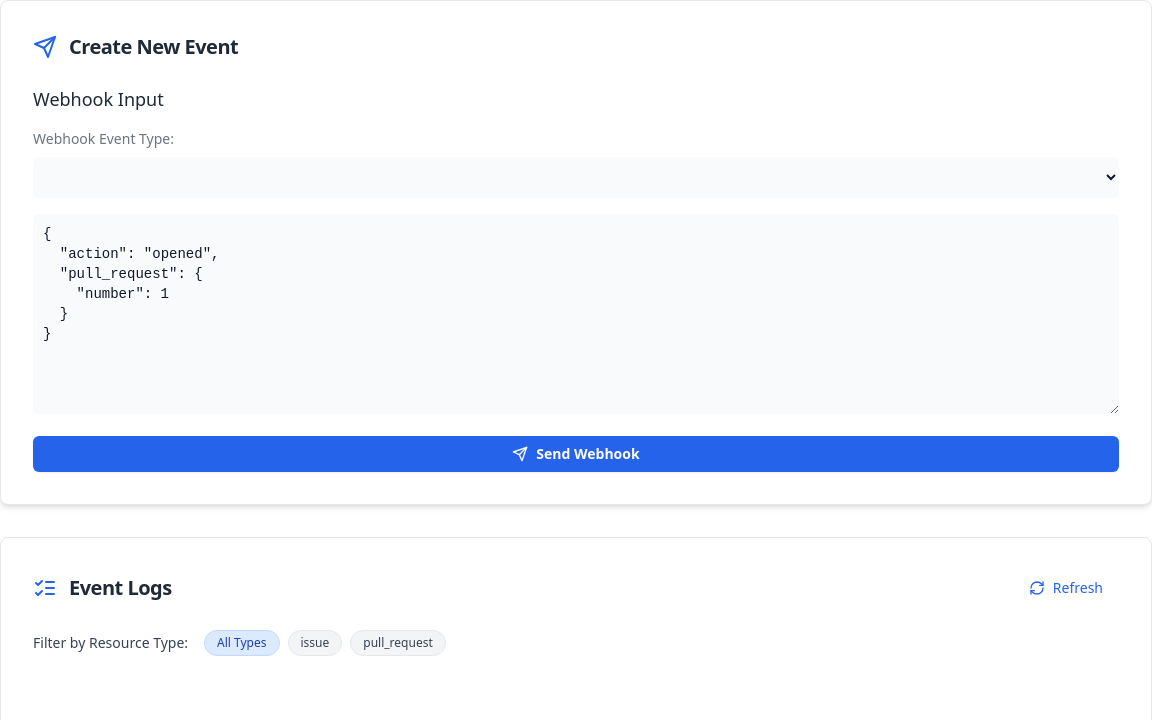
Test: Events Resource Type Filtering › filters events by resource type
This screenshot has width=1152, height=720.
# Click on a resource type filter
Click the button "pull_request". click: (398, 643)
box: [350,630,446,656]
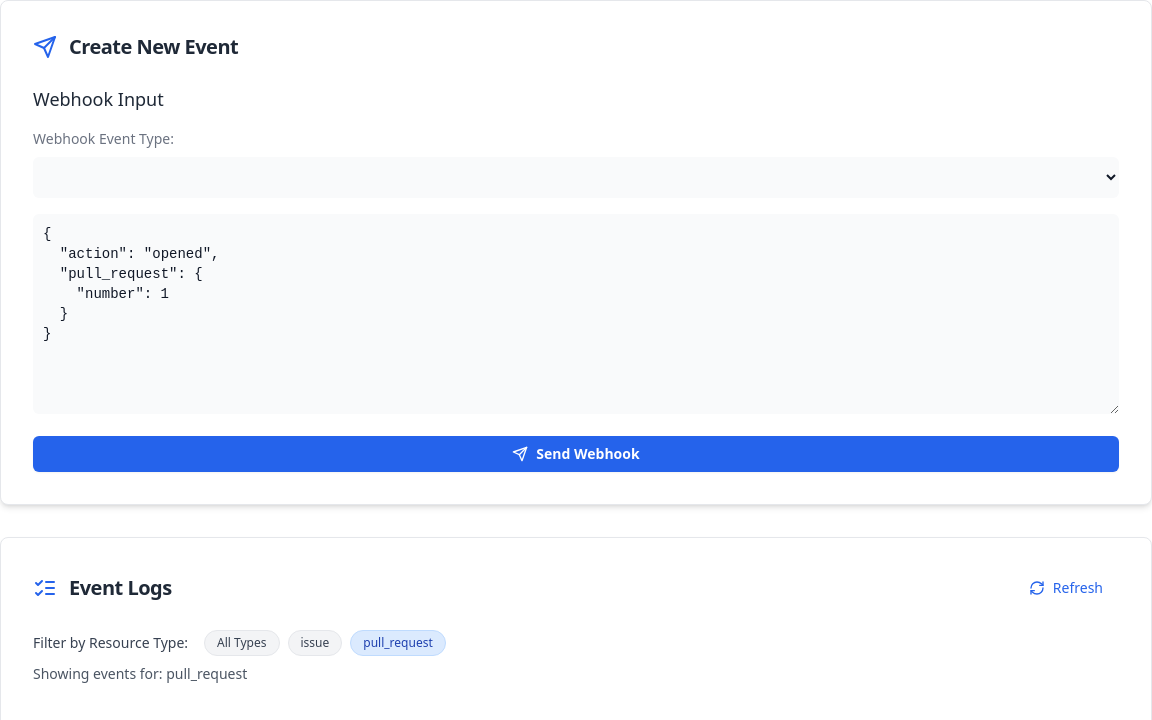
Check: the text "Showing events for: pull_request" is shown, box [33,664,247,683]
